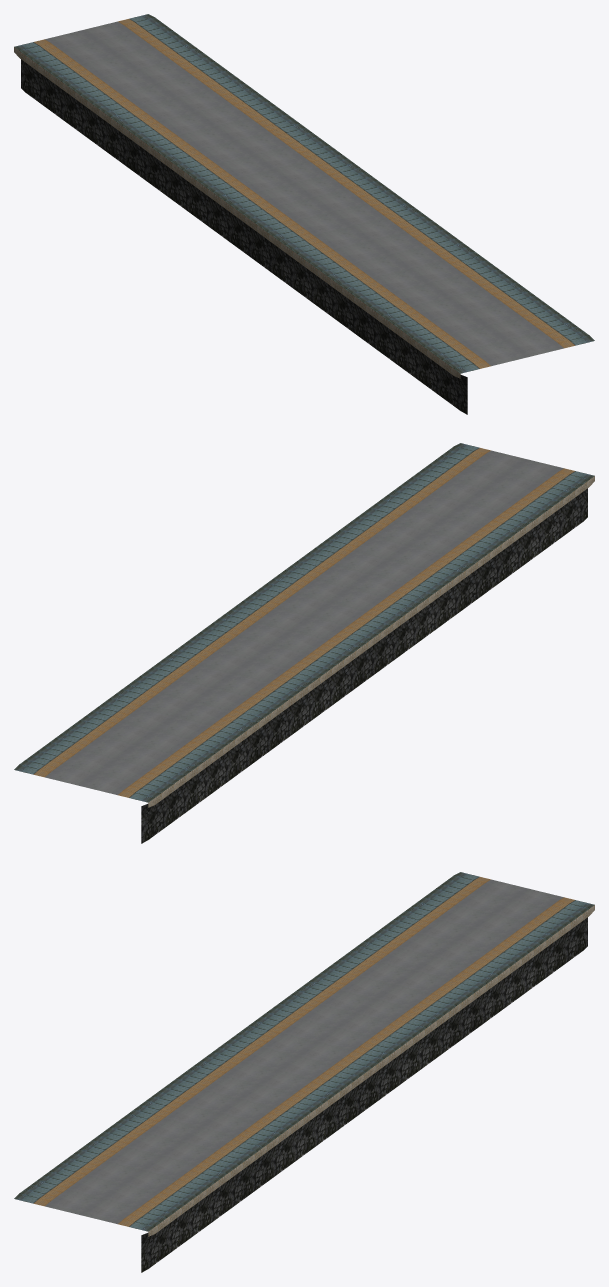
Rendered from AMB_MEI_CENTERHOME2.glb.
3 views of the same model, one above another, from view 1: azimuth 30°, elevation 25°; view 2: azimuth 150°, elevation 25°; view 3: azimuth 330°, elevation 25° (orthographic).
Parts seen in each view (by area): view 1: Mesh1; view 2: Mesh1; view 3: Mesh1.
Part boxes in pixels (bbox=[...]): Mesh1: bbox=[14, 14, 594, 414]; Mesh1: bbox=[14, 443, 594, 843]; Mesh1: bbox=[14, 872, 594, 1272].
Size of the model in its own units: 18.05 by 5.55 by 103.
Materials: 6 (6 with a texture image).
